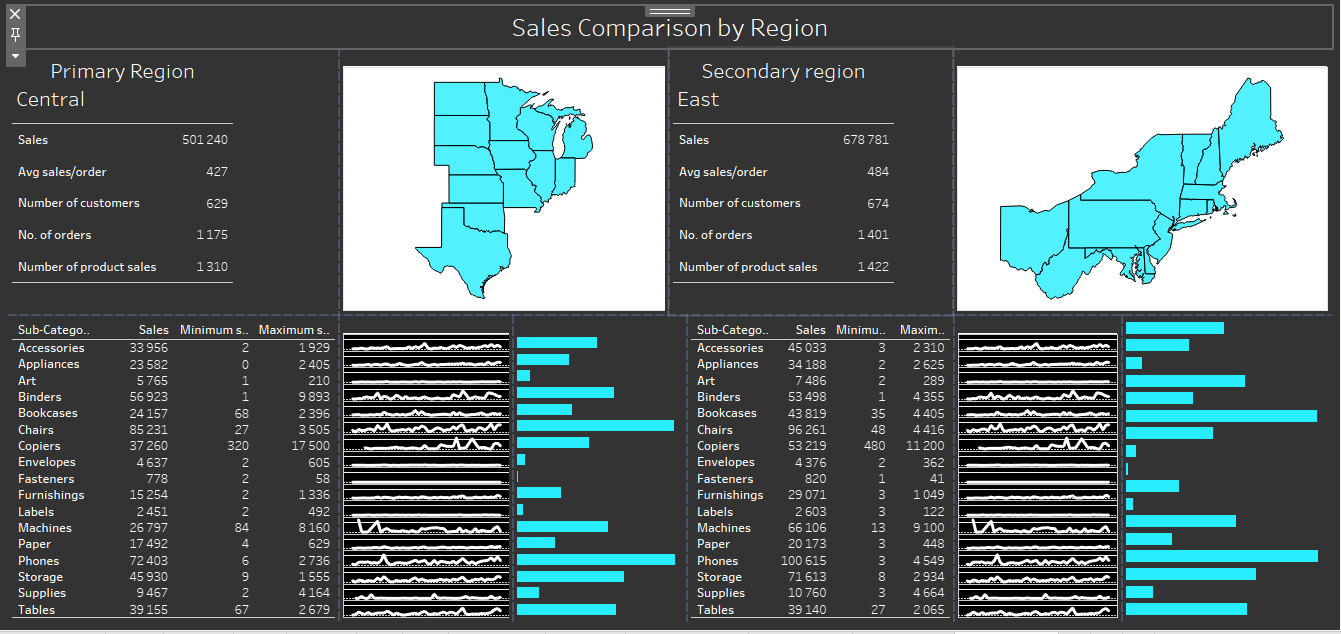

This screenshot's page, from the dashboard's own definition file:
{"tool":"tableau","page":{"name":"Dashboard 1","canvas":[1000,1000],"units":"permille","ordinal":0},"visuals":[{"type":"title","box":[6,12.7,988.1,63.3]},{"type":"worksheet","title":"Table1","mark":"Automatic","box":[6,76,246.8,424.1]},{"type":"worksheet","title":"Map1","mark":"Multipolygon","box":[252.8,76,246.7,424.1]},{"type":"worksheet","title":"Table1(2)","mark":"Automatic","box":[499.6,76,212,424.1]},{"type":"worksheet","title":"Map2","mark":"Multipolygon","box":[711.6,76,282.5,424.1]},{"type":"worksheet","title":"Table(Central)","mark":"Automatic","rows":["Sub-Category"],"box":[6,500,246.8,487.3]},{"type":"worksheet","title":"Sheet 1","mark":"Automatic","rows":["Sub-Category","Sales"],"cols":["Order Date"],"box":[252.8,500,130.2,487.3]},{"type":"worksheet","title":"Bar Graph(Central)","mark":"Bar","rows":["Sub-Category"],"cols":["Sales"],"box":[383.1,500,129.6,487.3]},{"type":"worksheet","title":"Table(East)","mark":"Automatic","rows":["Sub-Category"],"box":[512.6,500,199.2,487.3]},{"type":"worksheet","title":"sheet1(2)","mark":"Line","rows":["Sub-Category","Sales"],"cols":["Order Date"],"box":[711.8,500,125.5,487.3]},{"type":"worksheet","title":"Bar graph(East)","mark":"Bar","rows":["Sub-Category"],"cols":["Sales"],"box":[837.3,500,156.7,487.3]}]}

Visuals, with their boxes on the dashboard's canvas, which has no fixed pixel size, in thousandths of its width and height (x1, y1, x2, y2). These are canvas units, not pixel positions in the 1341x634 screenshot, which may show the page scaled, cropped or inside an application window:
title: x1=6 y1=13 x2=994 y2=76
"Table1" worksheet: x1=6 y1=76 x2=253 y2=500
"Map1" worksheet (Multipolygon marks): x1=253 y1=76 x2=500 y2=500
"Table1(2)" worksheet: x1=500 y1=76 x2=712 y2=500
"Map2" worksheet (Multipolygon marks): x1=712 y1=76 x2=994 y2=500
"Table(Central)" worksheet: x1=6 y1=500 x2=253 y2=987
"Sheet 1" worksheet: x1=253 y1=500 x2=383 y2=987
"Bar Graph(Central)" worksheet (Bar marks): x1=383 y1=500 x2=513 y2=987
"Table(East)" worksheet: x1=513 y1=500 x2=712 y2=987
"sheet1(2)" worksheet (Line marks): x1=712 y1=500 x2=837 y2=987
"Bar graph(East)" worksheet (Bar marks): x1=837 y1=500 x2=994 y2=987
